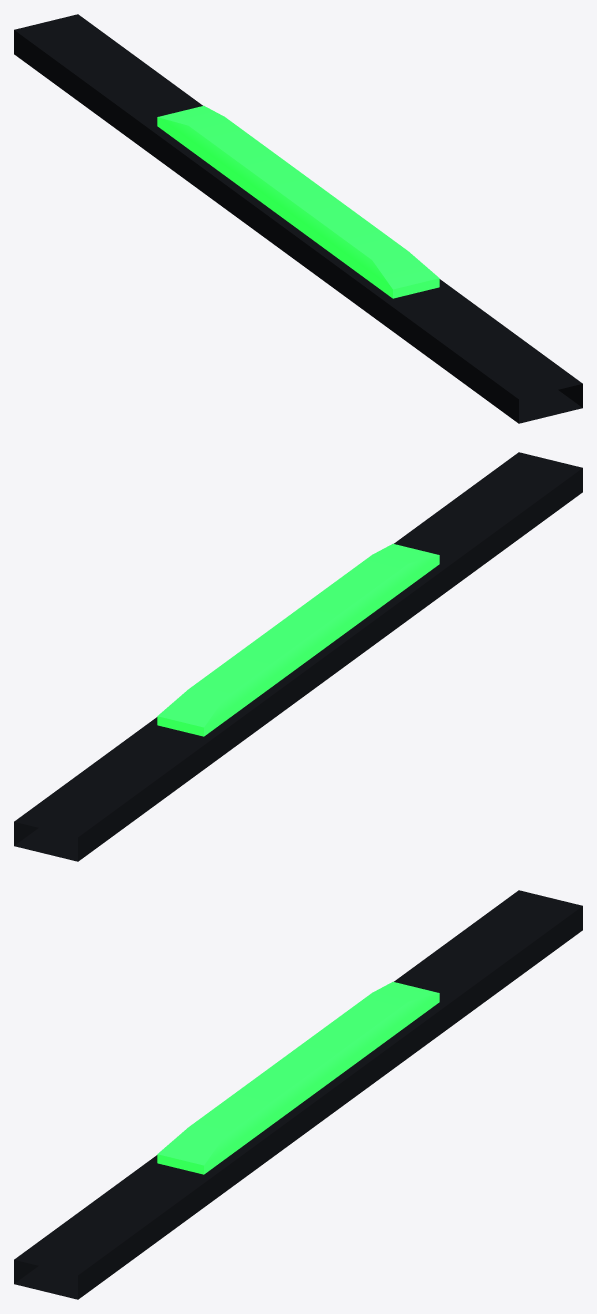
Rendered from boxlight_dash.glb.
3 views of the same model, one above another, from view 1: azimuth 30°, elevation 25°; view 2: azimuth 150°, elevation 25°; view 3: azimuth 330°, elevation 25° (orthographic).
Visible parts, largest first — view 1: boxlight_dash_MID_deco_trim, boxlight_dash_MID_deco_led; view 2: boxlight_dash_MID_deco_trim, boxlight_dash_MID_deco_led; view 3: boxlight_dash_MID_deco_trim, boxlight_dash_MID_deco_led.
Part boxes in pixels (box(x1,y1,x2,y2)): boxlight_dash_MID_deco_trim: box(14, 14, 582, 423); boxlight_dash_MID_deco_led: box(157, 106, 439, 298); boxlight_dash_MID_deco_trim: box(14, 452, 582, 861); boxlight_dash_MID_deco_led: box(157, 544, 439, 736); boxlight_dash_MID_deco_trim: box(14, 890, 582, 1299); boxlight_dash_MID_deco_led: box(157, 982, 439, 1174).
Size of the model in its own units: 0.022 by 0.014 by 0.3.
